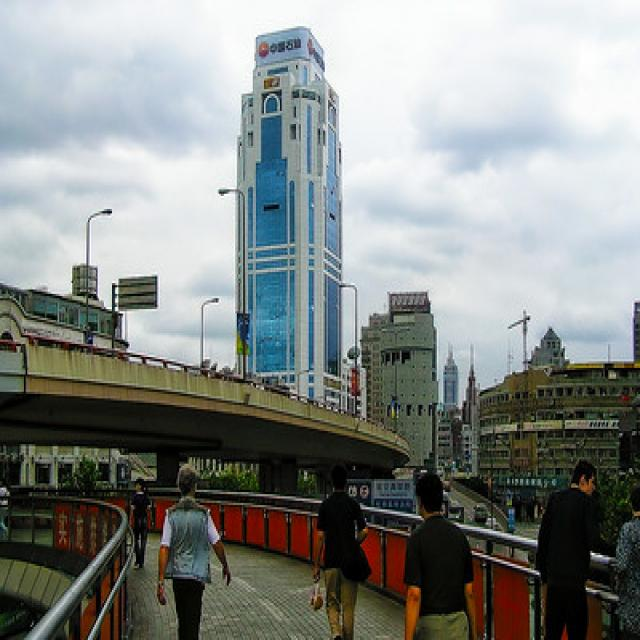Normal_building: (229, 18, 358, 410)
